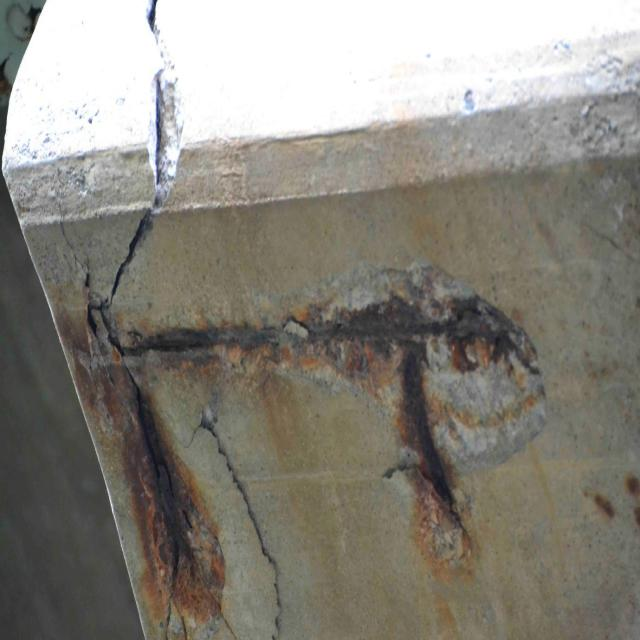Spalling: (90, 266, 563, 635)
Wall_Cracks: (94, 0, 201, 243)
